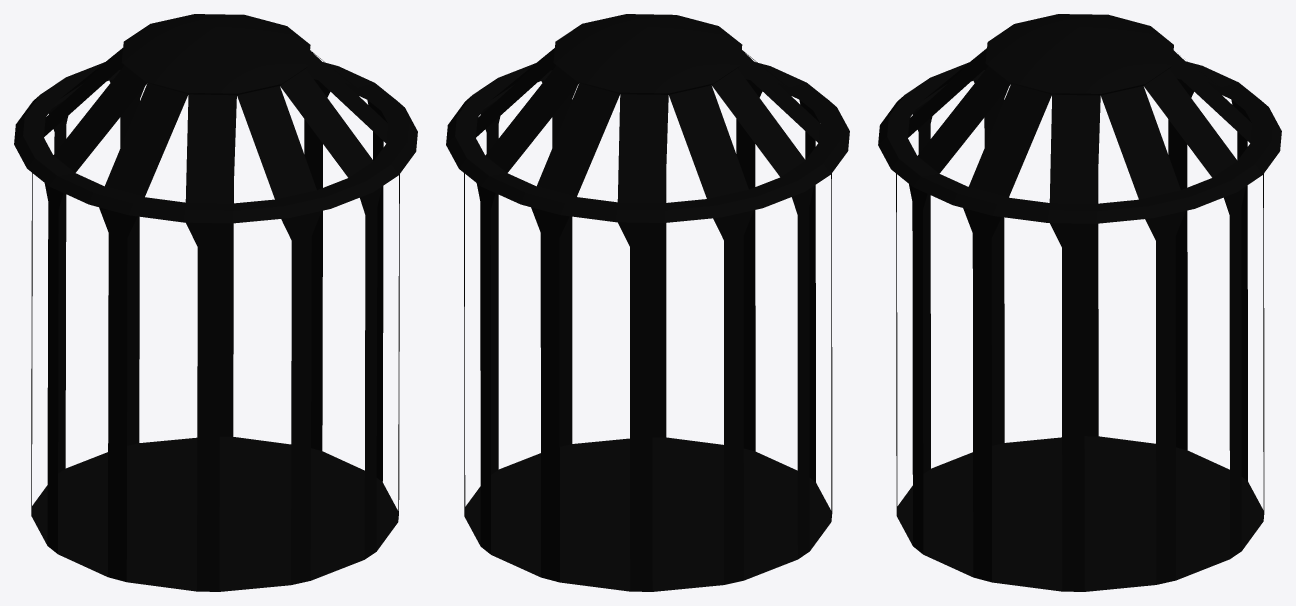
Rendered from LoveDeath_Cage_Art.glb.
3 renders of one model, left to right at view 1: azimuth 30°, elevation 25°; view 2: azimuth 150°, elevation 25°; view 3: azimuth 270°, elevation 25°, orthographic.
Visible parts, largest first — view 1: LoveDeath_Cage_Art; view 2: LoveDeath_Cage_Art; view 3: LoveDeath_Cage_Art.
Part boxes in pixels (left/top/right/bottom): LoveDeath_Cage_Art: left=14, top=14, right=417, bottom=591; LoveDeath_Cage_Art: left=446, top=14, right=849, bottom=591; LoveDeath_Cage_Art: left=878, top=14, right=1281, bottom=591.
Bounding box in the file's own units: 1.67 × 2.22 × 1.67.
Materials: 1 (1 with a texture image).
